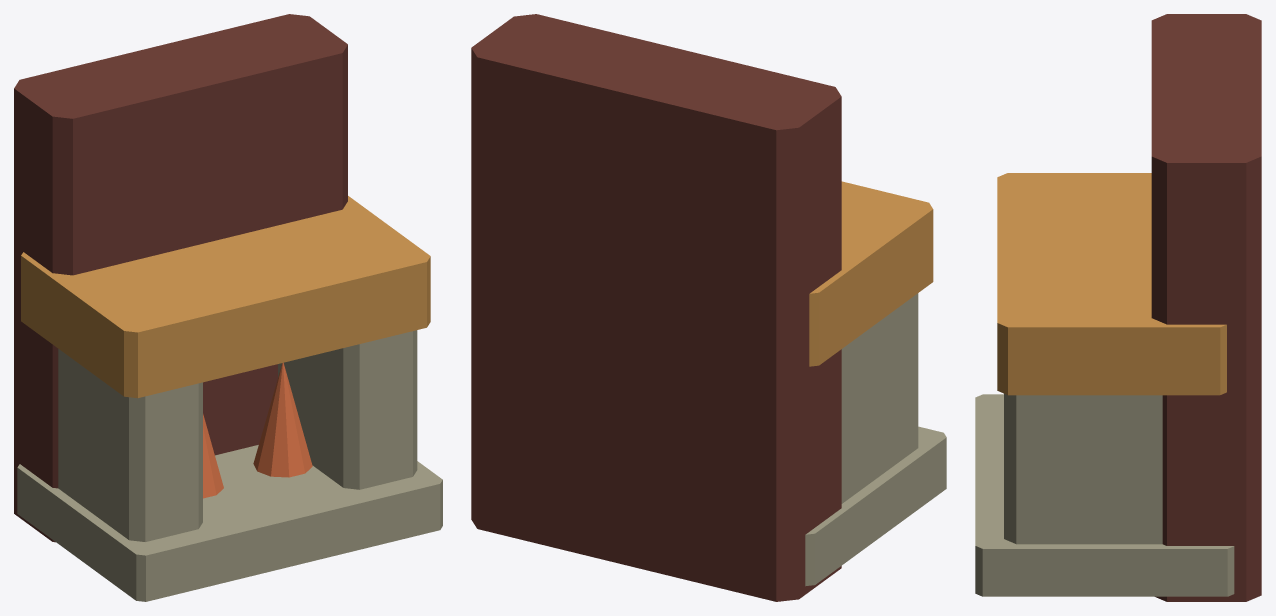
File: Hearth.fbx
3 renders of one model, left to right at view 1: azimuth 30°, elevation 25°; view 2: azimuth 150°, elevation 25°; view 3: azimuth 270°, elevation 25°, orthographic. The views are drawn at different scales.
Visible parts, largest first — view 1: Hearth.005; view 2: Hearth.005; view 3: Hearth.005.
Boxes of the visible parts, bbox=[...] form: Hearth.005: bbox=[14, 14, 442, 601]; Hearth.005: bbox=[471, 14, 946, 601]; Hearth.005: bbox=[975, 14, 1261, 601].
Size of the model in its own units: 83 by 110 by 65.
